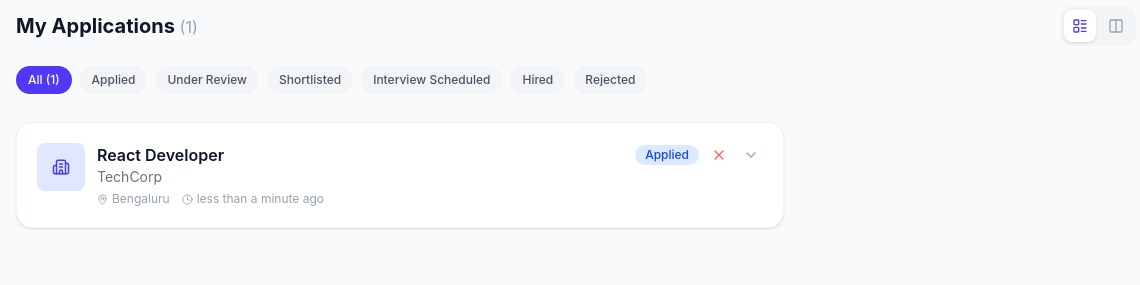
MyApplications › shows empty state message when filtered status has no results
expect the link "React Developer" is shown: met, box [97, 145, 224, 165]
Click the button "rejected". click: (610, 80)
box: [573, 66, 647, 94]
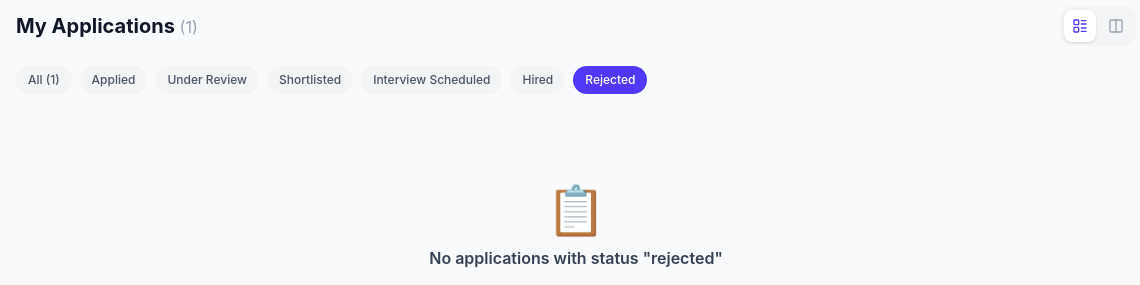
expect the heading "No applications with status \"rejected\"" is shown: met, box [429, 248, 723, 268]
